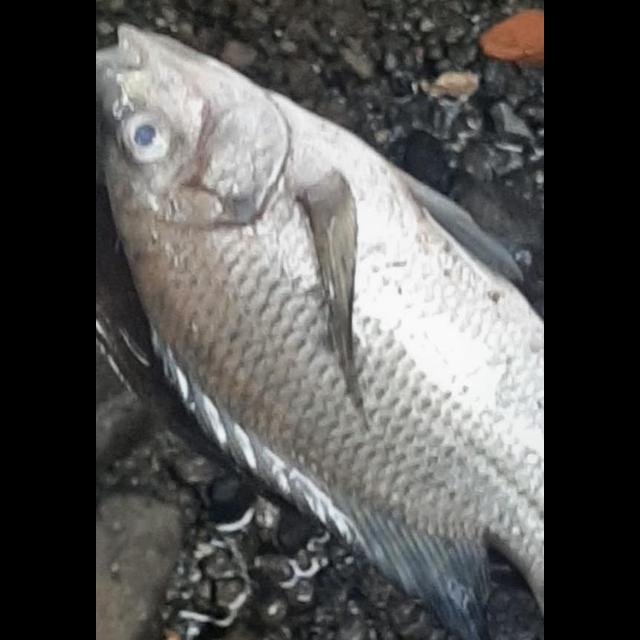Tilapia: (98, 22, 544, 640)
